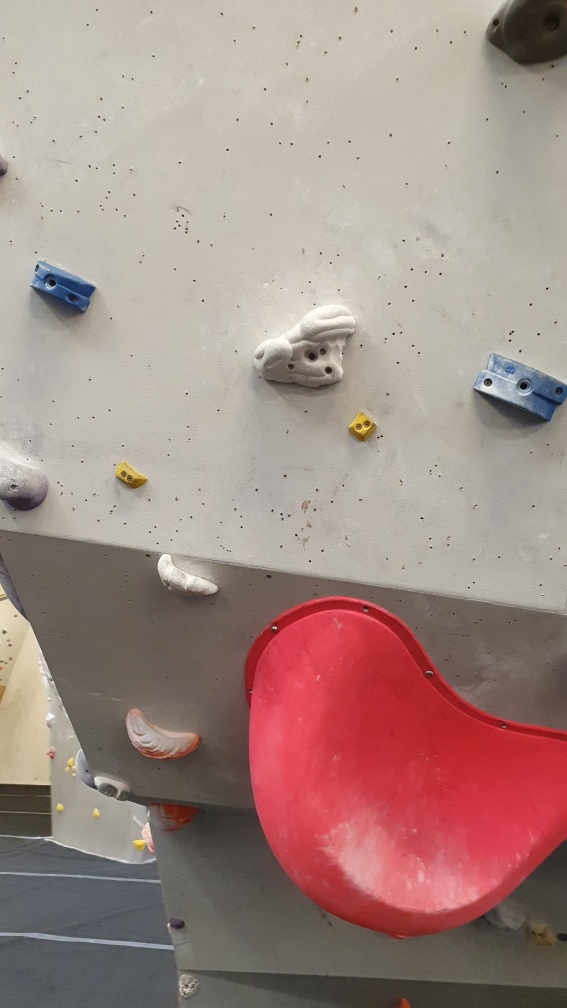Crimp: (112, 456, 147, 489)
Jug: (251, 299, 361, 392), (125, 702, 206, 763), (153, 546, 220, 606)
Pinch: (470, 349, 567, 423), (29, 259, 99, 319), (349, 407, 377, 443)
